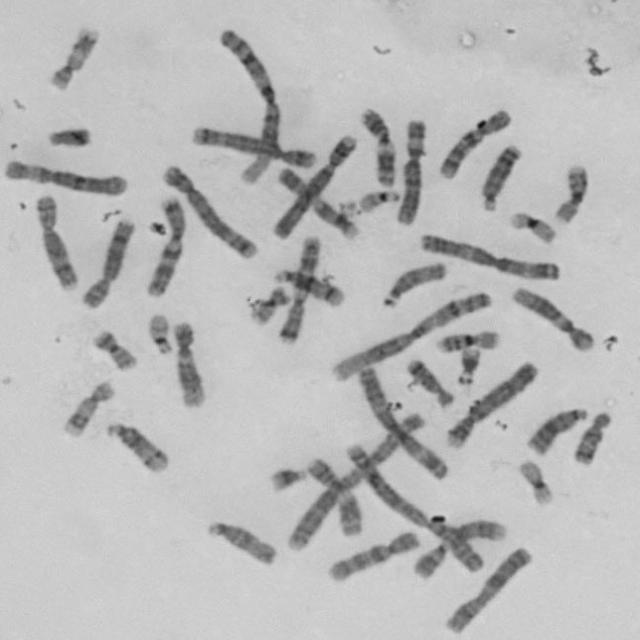A1: (325, 287, 496, 383), (213, 22, 284, 188)
A2: (282, 407, 430, 553), (340, 438, 491, 575)
A3: (353, 362, 451, 482), (414, 228, 564, 282)
B4: (268, 130, 360, 242), (438, 355, 541, 450)
B5: (156, 160, 261, 262), (188, 121, 319, 170)
C10: (433, 104, 512, 182), (324, 525, 423, 583)
C11: (300, 452, 364, 538), (356, 102, 398, 187)
C12: (507, 281, 596, 354), (168, 316, 210, 410)
C6: (0, 154, 133, 198), (388, 113, 428, 227)
C7: (272, 230, 323, 345), (141, 191, 189, 297)
C8: (75, 212, 136, 310), (29, 189, 80, 292)
C9: (409, 510, 510, 580), (273, 162, 363, 240)
D13: (524, 400, 592, 456), (477, 139, 525, 212)
D14: (100, 418, 172, 474), (269, 264, 347, 308)
D15: (201, 516, 280, 567), (377, 256, 449, 309)
E16: (549, 158, 592, 226), (429, 324, 503, 354)
E17: (45, 22, 99, 92), (59, 374, 117, 439)
E18: (401, 353, 456, 408), (572, 407, 616, 467)
F19: (514, 454, 556, 506), (505, 207, 559, 247)
F20: (87, 323, 142, 373), (244, 281, 291, 325)
G21: (264, 461, 310, 494), (452, 340, 484, 386)
G22: (143, 307, 176, 357), (355, 184, 402, 212)
X: (442, 542, 536, 634)
Y: (43, 121, 94, 149)
